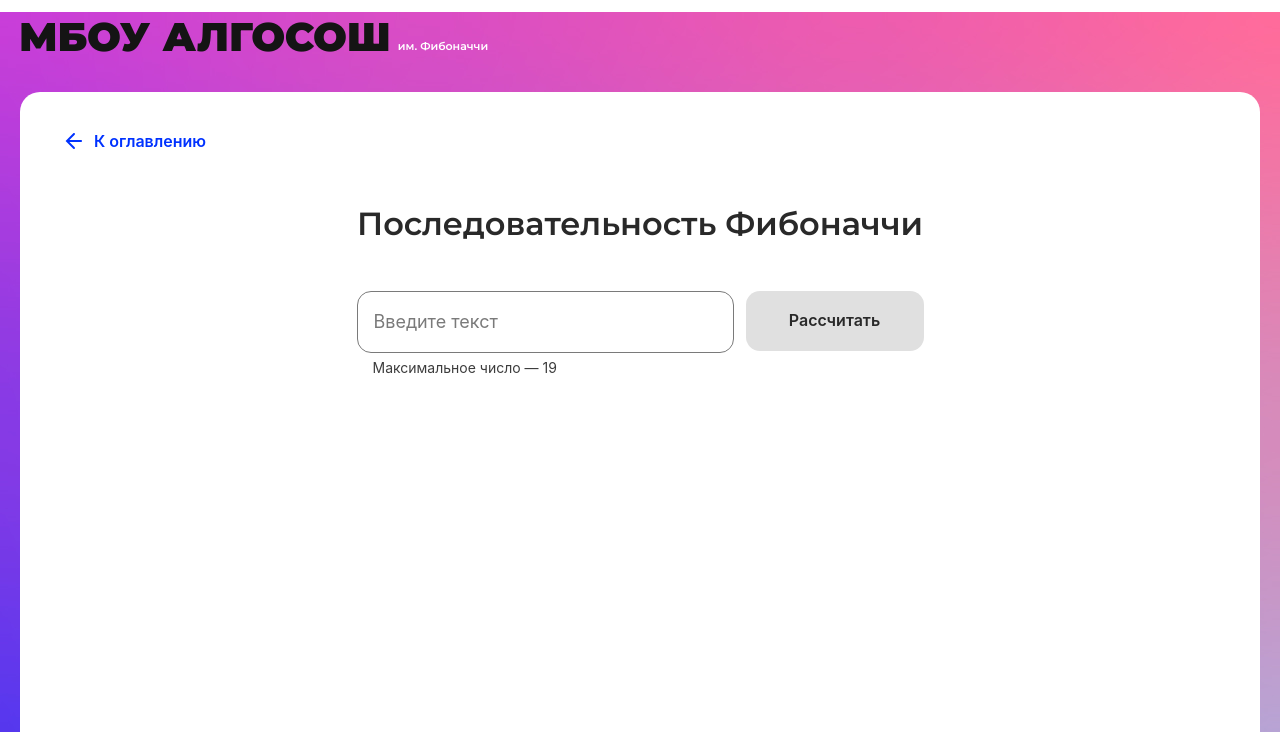
Scenario: страница Последовательность Фибоначчи › состояние кнопки
The width and height of the screenshot is (1280, 732).
Expected: the button "Рассчитать" is disabled, [746, 291, 924, 351]
Type "5" into the field with placeholder "Введите текст" at (546, 322), box [357, 291, 734, 353]
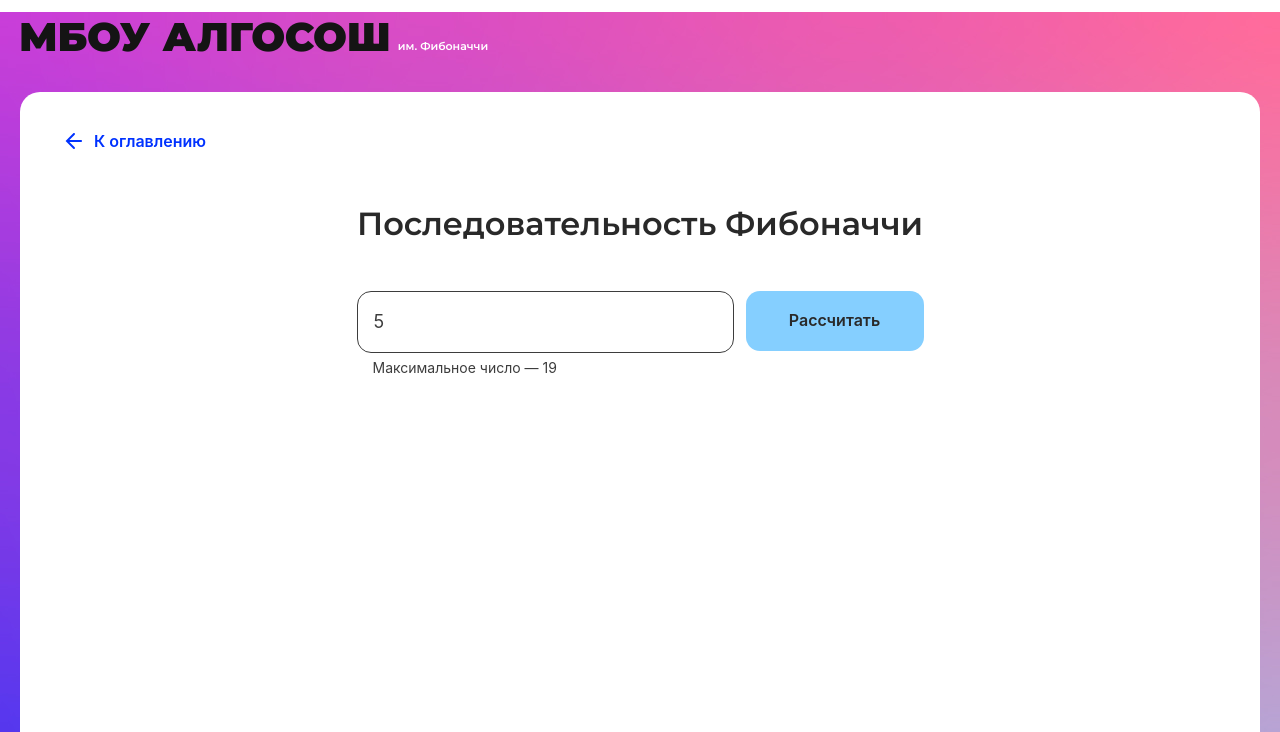
Expected: the text "Рассчитать" is enabled
Clear the field at (546, 322), box [357, 291, 734, 353]
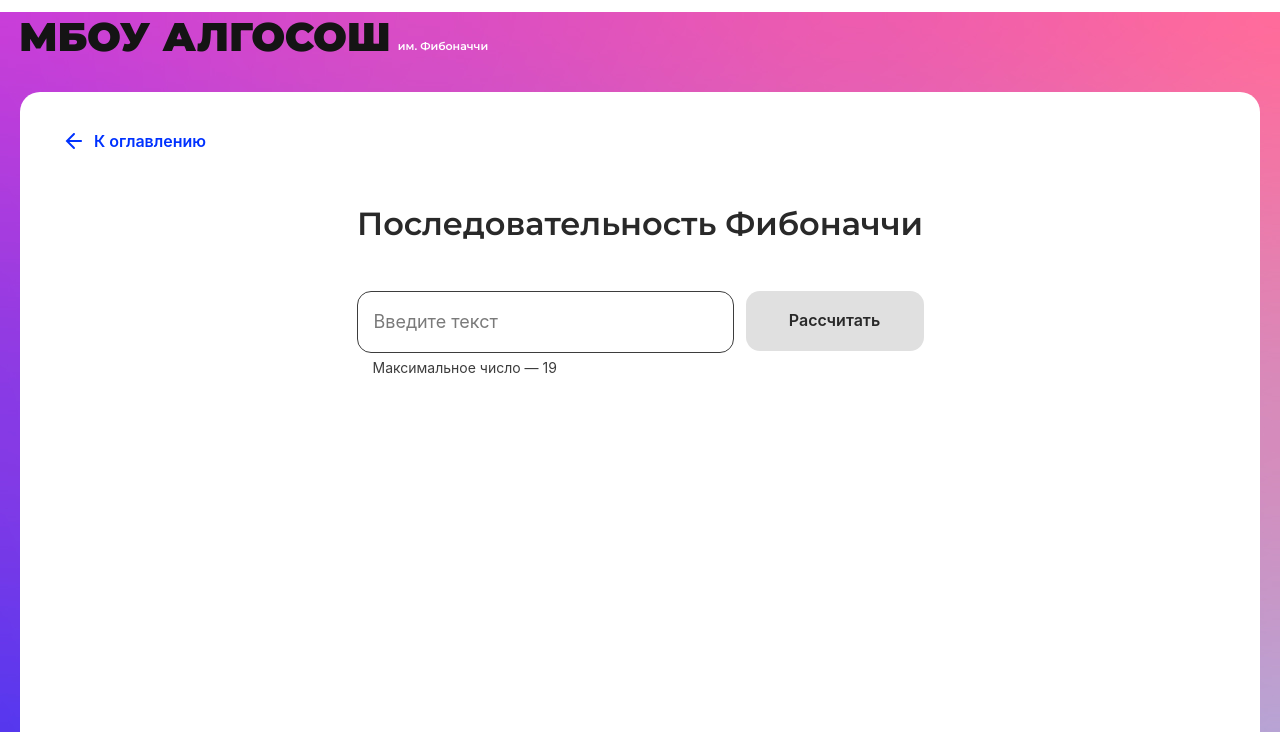
Now the button "Рассчитать" is disabled, box [746, 291, 924, 351]
